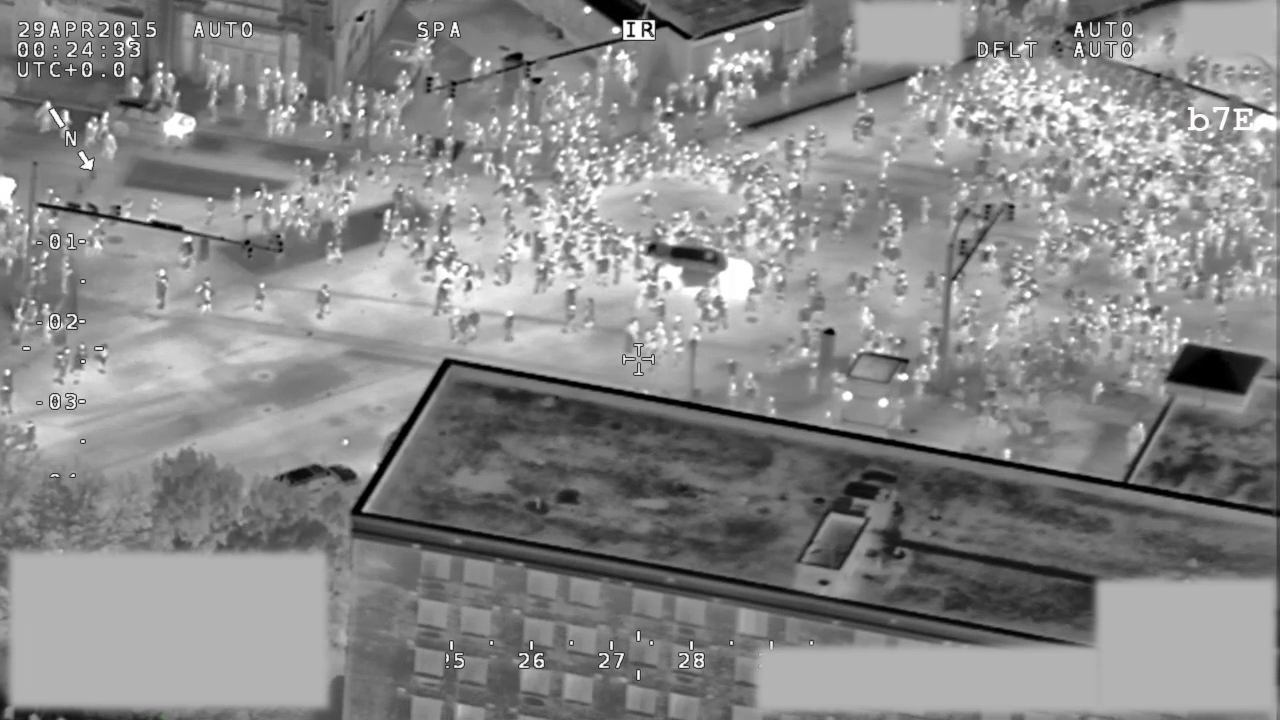vehicle: (632, 240, 762, 308), (102, 96, 201, 156), (267, 450, 364, 507)
